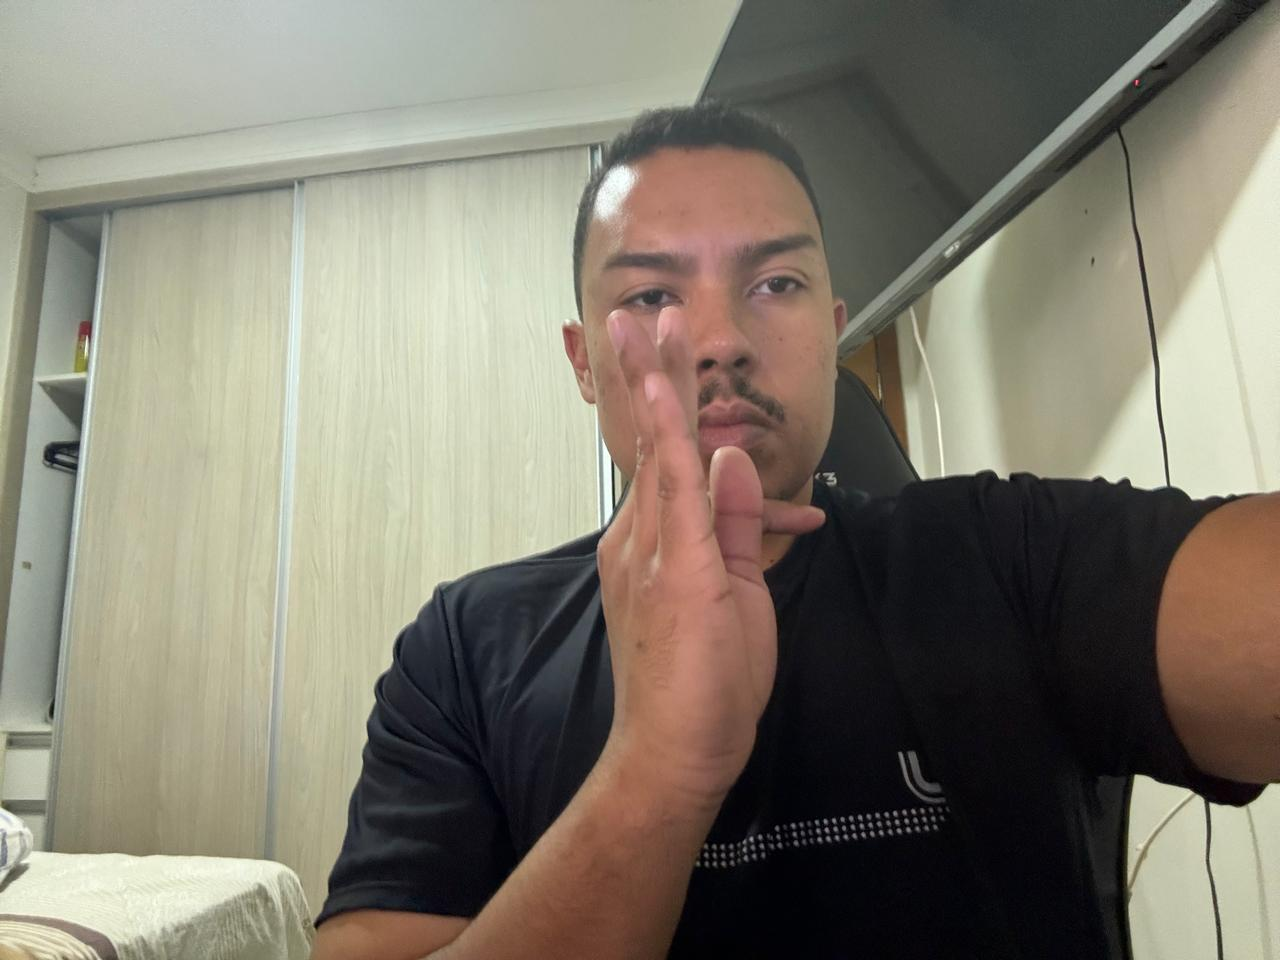t: (574, 293, 834, 805)
